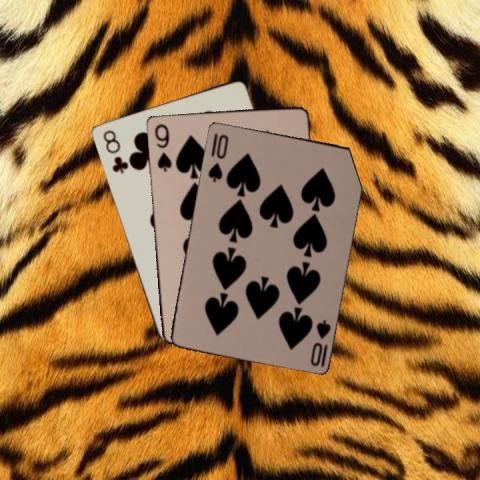10s: (205, 130, 230, 183), (307, 316, 332, 367)
8c: (99, 126, 128, 174)
9s: (151, 121, 173, 173)
